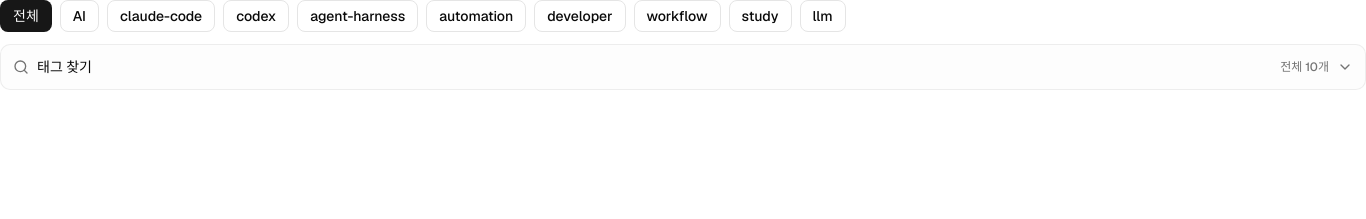
Test: TagFilter › 검색 결과가 없으면 빈 상태를 표시한다
Click the text "태그 찾기" at x=64, y=67, box [37, 57, 92, 77]
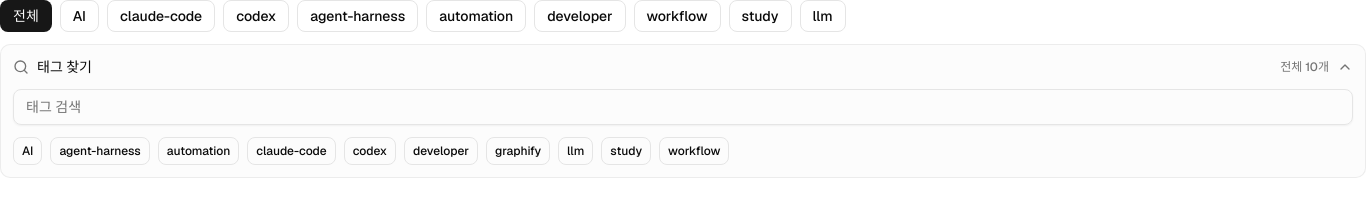
Type "no-match" into the search field labelled "태그 검색" at x=683, y=107, box [13, 89, 1353, 125]
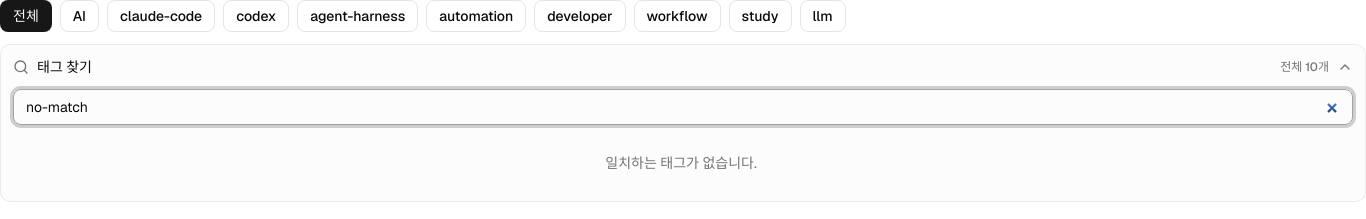
Expected: the text "일치하는 태그가 없습니다." is shown, [605, 154, 757, 172]
